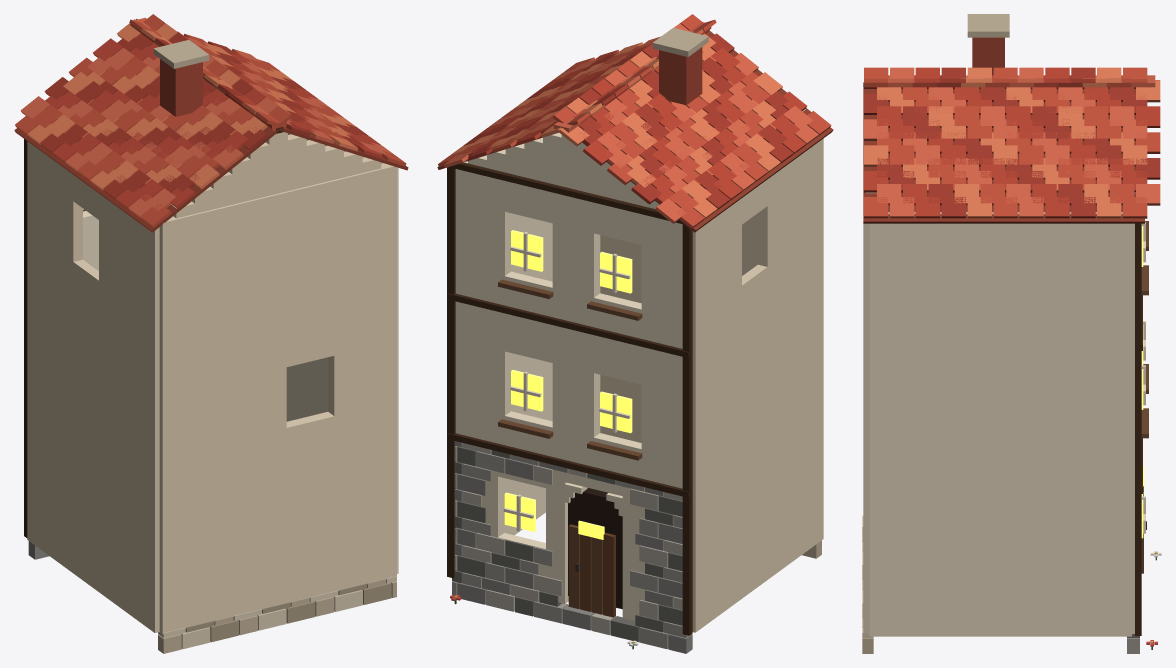
Rendered from vn_building_townhouse.glb.
3 views of the same model, side by side, from view 1: azimuth 30°, elevation 25°; view 2: azimuth 150°, elevation 25°; view 3: azimuth 270°, elevation 25° (orthographic). The views are drawn at different scales.
Visible parts, largest first — view 1: town_walls, town_roof, town_stone, town_wood; view 2: town_walls, town_roof, town_wood, town_stone, town_win; view 3: town_walls, town_roof, town_wood, town_win, town_stone.
Part boxes in pixels (x1,y1,x2,y2): town_walls: [27, 132, 398, 633]; town_roof: [14, 14, 408, 232]; town_stone: [28, 541, 396, 653]; town_wood: [24, 40, 283, 537]; town_walls: [455, 109, 823, 632]; town_roof: [437, 14, 833, 232]; town_wood: [447, 28, 708, 635]; town_stone: [452, 441, 821, 653]; town_win: [503, 230, 632, 609]; town_walls: [863, 192, 1135, 636]; town_roof: [863, 67, 1160, 223]; town_wood: [863, 14, 1148, 635]; town_win: [1141, 222, 1145, 538]; town_stone: [862, 515, 1139, 653].
Bounding box in the file's own units: 3.78 × 7.55 × 3.7.
